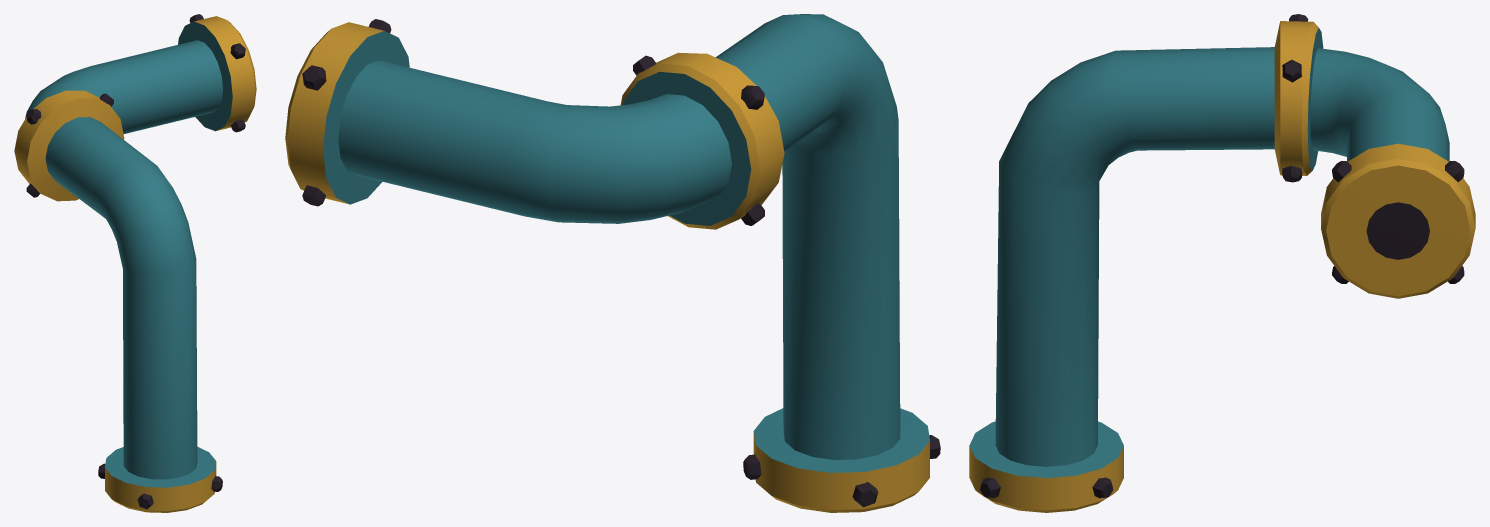
Rendered from PipeRun_05.glb.
3 renders of one model, left to right at view 1: azimuth 30°, elevation 25°; view 2: azimuth 150°, elevation 25°; view 3: azimuth 270°, elevation 25°, orthographic. The views are drawn at different scales.
Visible parts, largest first — view 1: PipeRun_05; view 2: PipeRun_05; view 3: PipeRun_05.
Boxes of the visible parts, x1,y1,x2,y2 form: PipeRun_05: [14, 14, 256, 512]; PipeRun_05: [285, 14, 940, 512]; PipeRun_05: [969, 14, 1475, 512].
Size of the model in its own units: 2.85 by 3.65 by 3.69.
